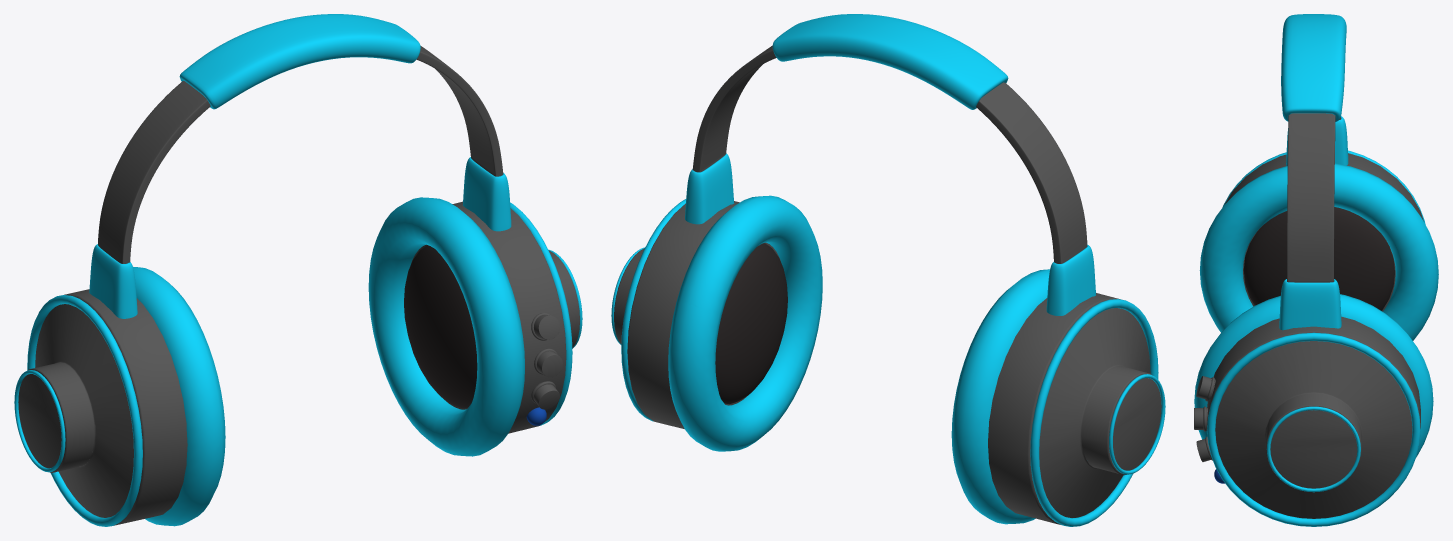
Rendered from headphone.glb.
The picture shows the model from 3 angles, left to right: view 1: azimuth 30°, elevation 25°; view 2: azimuth 150°, elevation 25°; view 3: azimuth 270°, elevation 25°; orthographic projection. The views are drawn at different scales.
Parts seen in each view (by area): view 1: HEADSET, BezierCircle, Circle.002, Sphere, BezierCircle.001, Circle.001, BezierCircle.002; view 2: HEADSET, BezierCircle, Circle.002, Sphere, BezierCircle.001, Circle.001, BezierCircle.002; view 3: HEADSET, BezierCircle, Sphere, Circle.002, BezierCircle.001, Circle.001, BezierCircle.002.
Boxes of the visible parts, box(x1,y1,x2,y2) form: HEADSET: box(18, 45, 579, 525); BezierCircle: box(133, 197, 524, 526); Circle.002: box(179, 14, 420, 109); Sphere: box(404, 245, 477, 408); BezierCircle.001: box(27, 202, 572, 526); Circle.001: box(89, 157, 511, 318); BezierCircle.002: box(14, 249, 582, 472); HEADSET: box(614, 45, 1161, 524); BezierCircle: box(668, 195, 1049, 524); Circle.002: box(772, 14, 1008, 109); Sphere: box(715, 243, 787, 404); BezierCircle.001: box(621, 199, 1158, 526); Circle.001: box(685, 153, 1095, 315); BezierCircle.002: box(611, 247, 1165, 474); HEADSET: box(1194, 113, 1423, 518); BezierCircle: box(1194, 163, 1438, 457); Sphere: box(1243, 207, 1394, 310); Circle.002: box(1281, 14, 1346, 121); BezierCircle.001: box(1207, 150, 1425, 526); Circle.001: box(1279, 116, 1348, 330); BezierCircle.002: box(1266, 406, 1360, 492).
Bounding box in the file's own units: 5.01 × 4.22 × 2.29.
Materials: 7 (6 with a texture image).
